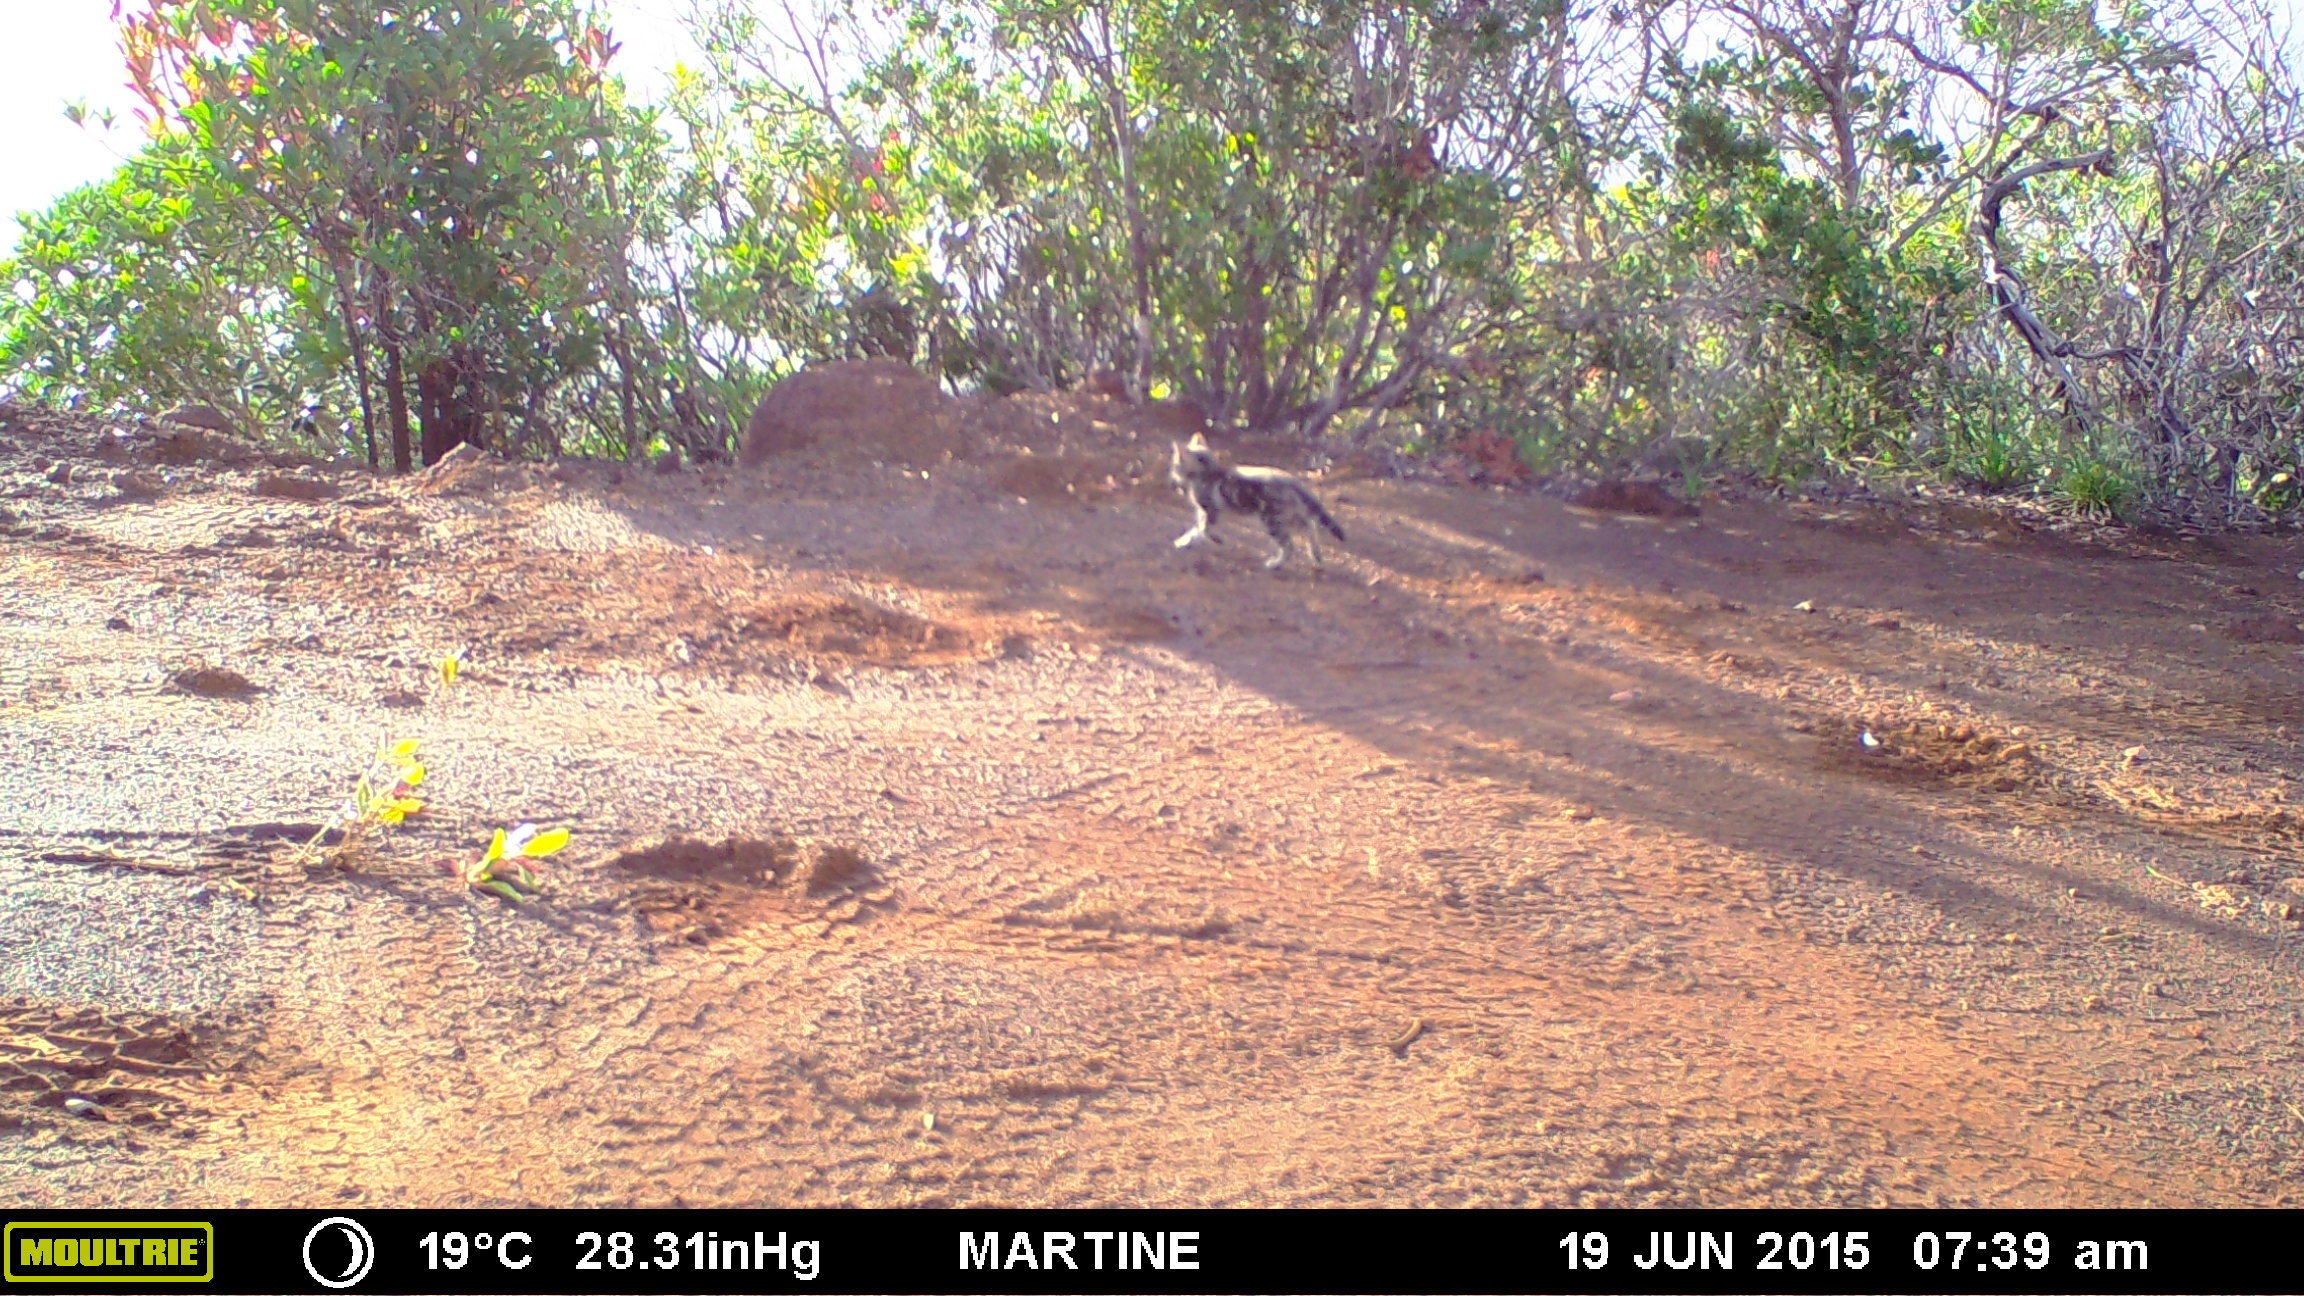cat: (1152, 419, 1380, 603)
